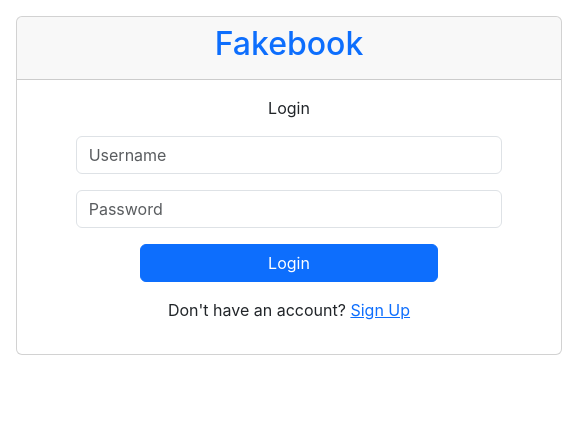
Test: displays error message when user not found
Note: Enter incorrect credentials
Type "InvalidUser" into the field titled "username".
click(289, 155); type("InvalidUser")  # box [76, 136, 502, 174]
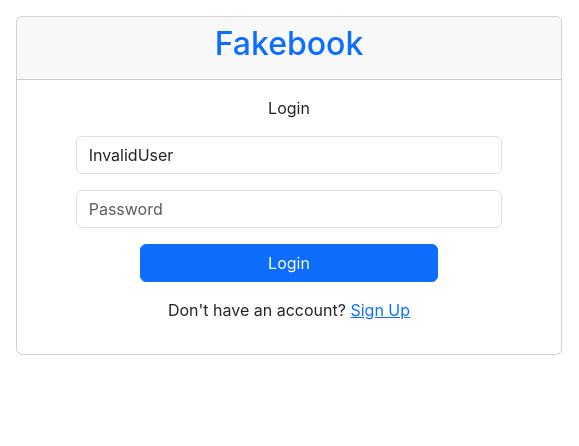
Type "InvalidPaswword" into the password field titled "password".
click(289, 209); type("InvalidPaswword")  # box [76, 190, 502, 228]
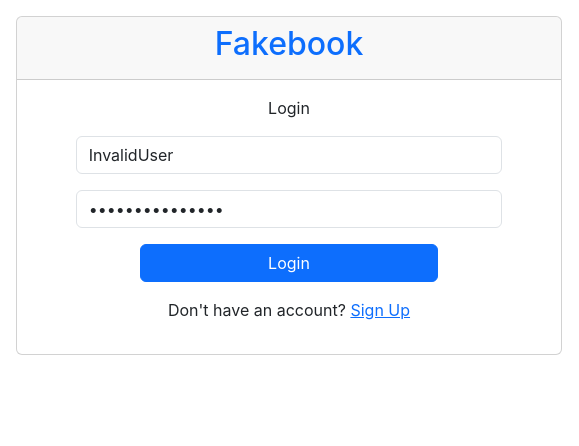
Note: Submit the form
Click the button "Login".
click(289, 263)  # box [140, 244, 438, 282]
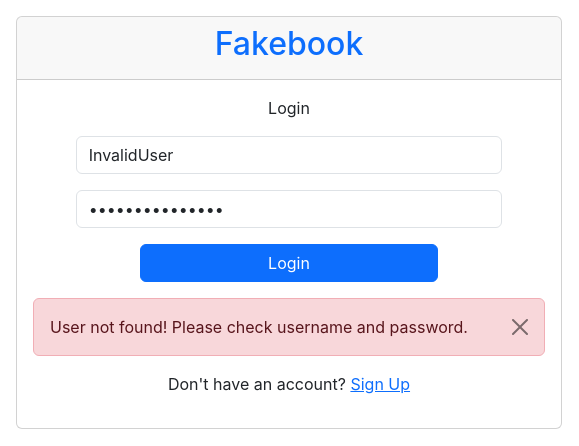
Check: the text "User not found! Please check username and password." is shown, box [33, 298, 545, 356]
